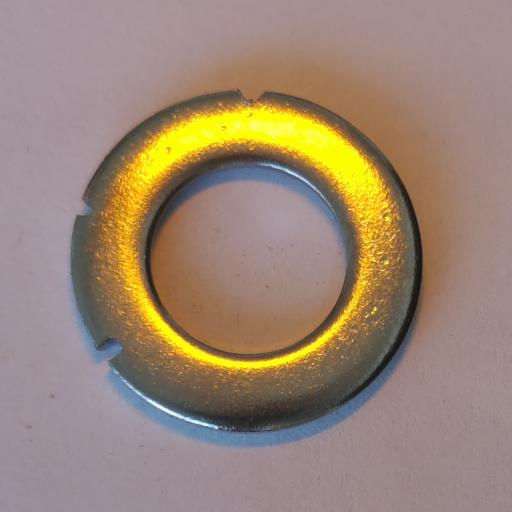burr: (95, 335, 124, 364), (74, 196, 96, 221), (238, 87, 268, 105)
